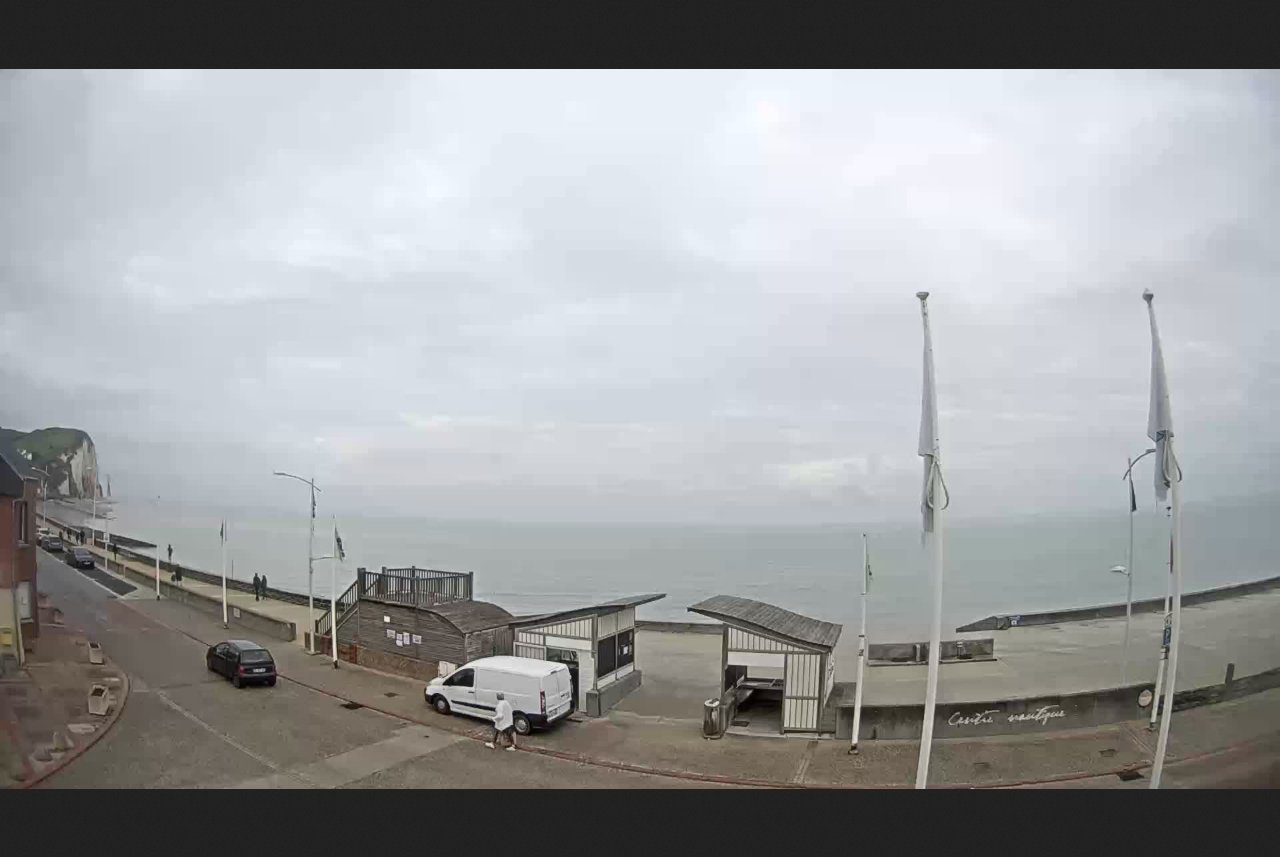no: (1130, 287, 1184, 507), (908, 287, 948, 547), (855, 532, 877, 594), (332, 515, 348, 563)
